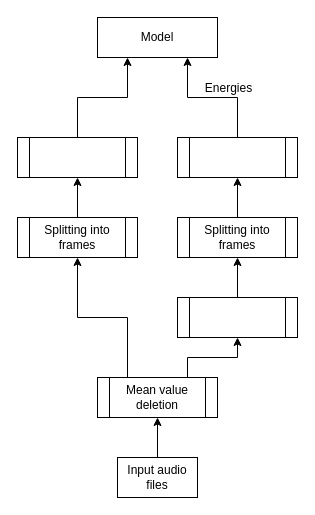
Image size: 315x515. Some labels were removed from this diagram. Here are the shapes that lost their labels. From the top down, the box of each, then its label:
(16, 136, 138, 178): Computing base frequency
(176, 136, 298, 178): FFT
(176, 296, 298, 338): Pre-emphasis
